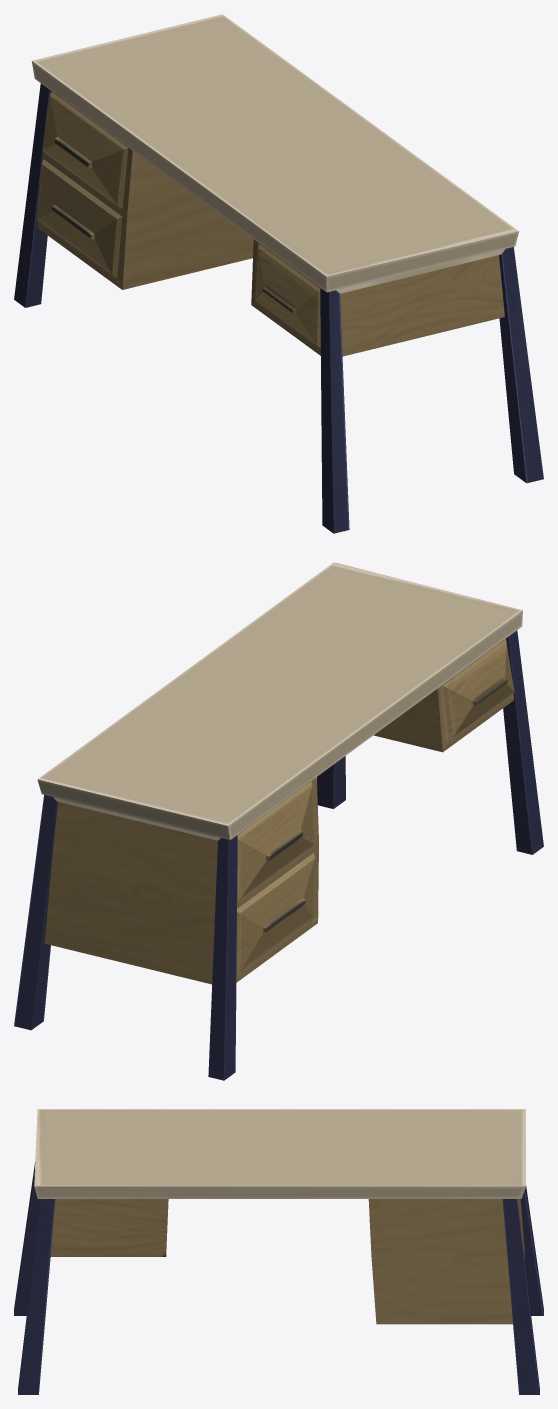
The model's file is TableProf.FBX.
3 views of the same model, one above another, from view 1: azimuth 30°, elevation 25°; view 2: azimuth 150°, elevation 25°; view 3: azimuth 270°, elevation 25° (orthographic). The views are drawn at different scales.
Parts seen in each view (by area): view 1: Object001; view 2: Object001; view 3: Object001.
Part boxes in pixels (x1,y1,x2,y2): Object001: (14, 14, 543, 533); Object001: (14, 562, 543, 1080); Object001: (14, 1109, 543, 1394).
Size of the model in its own units: 87.96 by 95.85 by 227.
